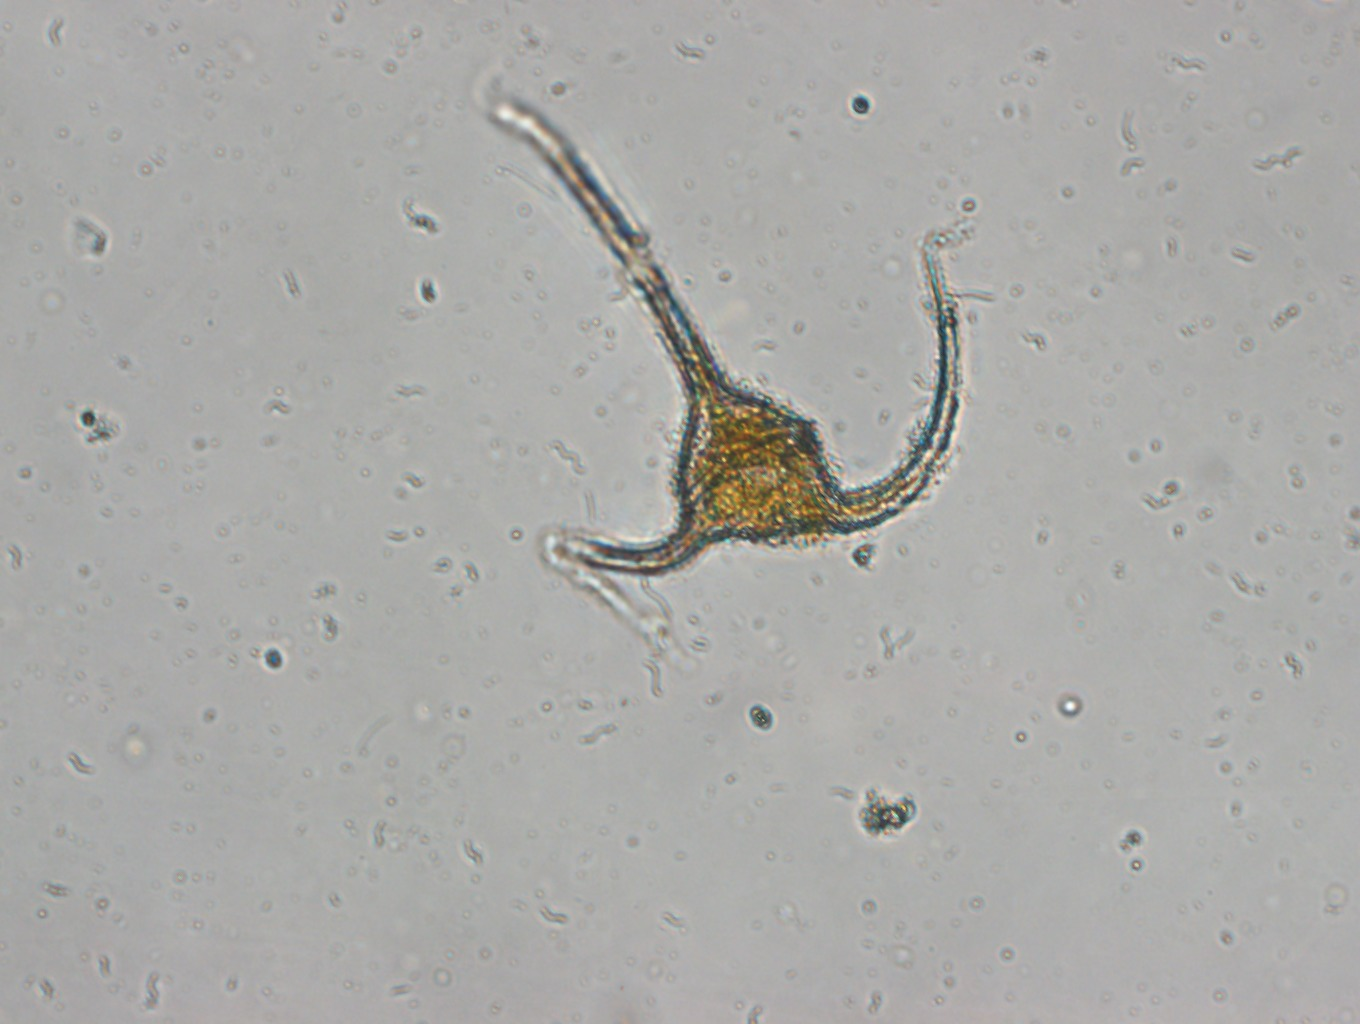ceratium trichoceros: (474, 94, 973, 579)
